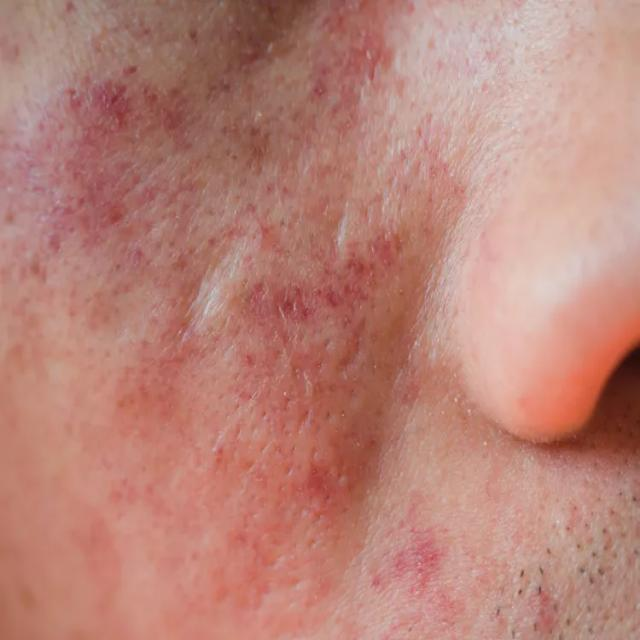Eczema: (7, 71, 462, 614)
